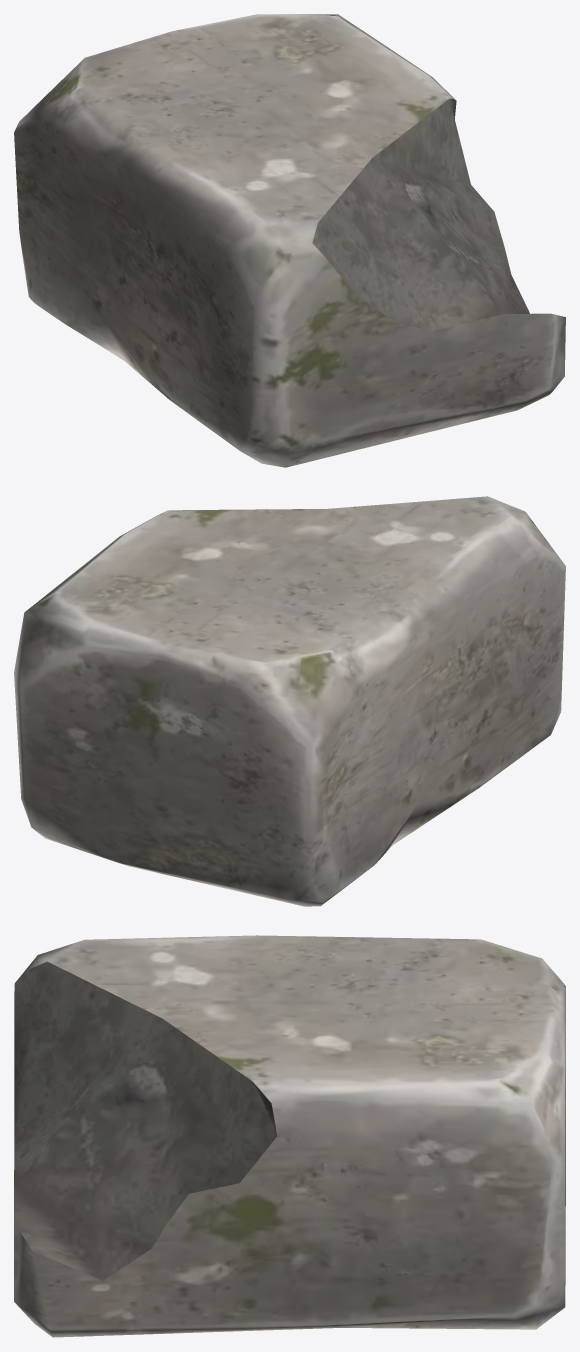
The picture shows the model from 3 angles, top to bottom: view 1: azimuth 30°, elevation 25°; view 2: azimuth 150°, elevation 25°; view 3: azimuth 270°, elevation 25°; orthographic projection. The views are drawn at different scales.
Parts seen in each view (by area): view 1: SM_Castle_Floor_Stone_01_Dmg_v3_LOD0; view 2: SM_Castle_Floor_Stone_01_Dmg_v3_LOD0; view 3: SM_Castle_Floor_Stone_01_Dmg_v3_LOD0.
Part boxes in pixels (<box>): SM_Castle_Floor_Stone_01_Dmg_v3_LOD0: <box>14,14,565,467</box>; SM_Castle_Floor_Stone_01_Dmg_v3_LOD0: <box>14,496,565,906</box>; SM_Castle_Floor_Stone_01_Dmg_v3_LOD0: <box>14,935,565,1337</box>.
Bounding box in the file's own units: 0.5701 × 0.403 × 0.8002.
2 materials, 2 textured.
